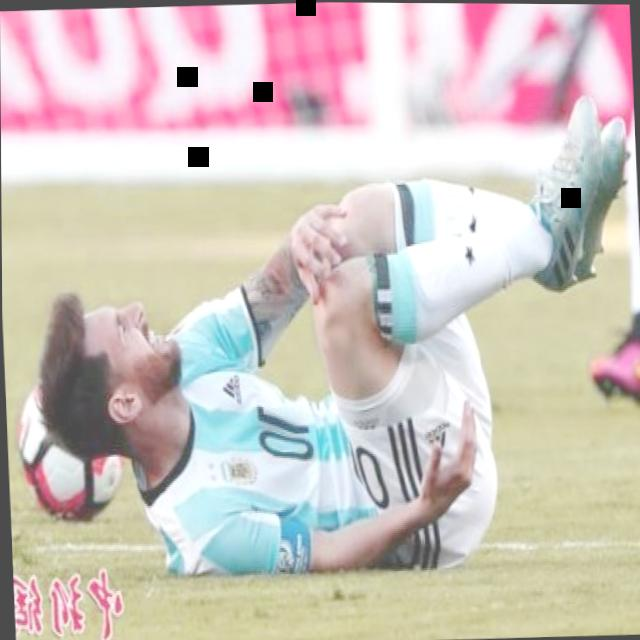Fall-Detected: (0, 41, 640, 607)
